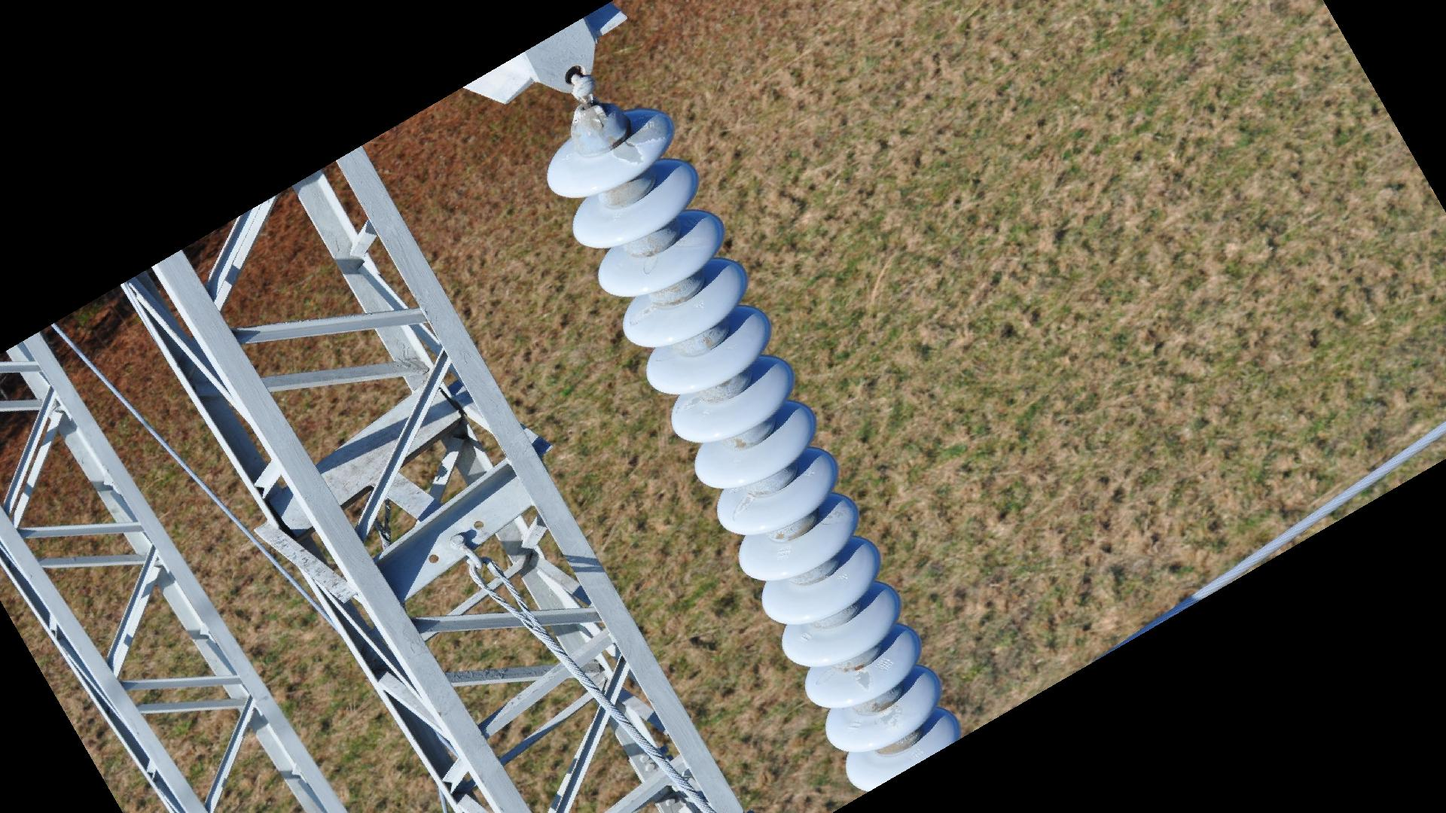insulator: (540, 99, 969, 802)
insulator_flashover: (609, 110, 674, 168)
